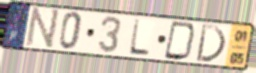0: (58, 11, 85, 52)
3: (97, 15, 124, 55)
D: (163, 19, 198, 62), (194, 23, 228, 65)
L: (127, 18, 152, 58)
N: (23, 6, 62, 51)
